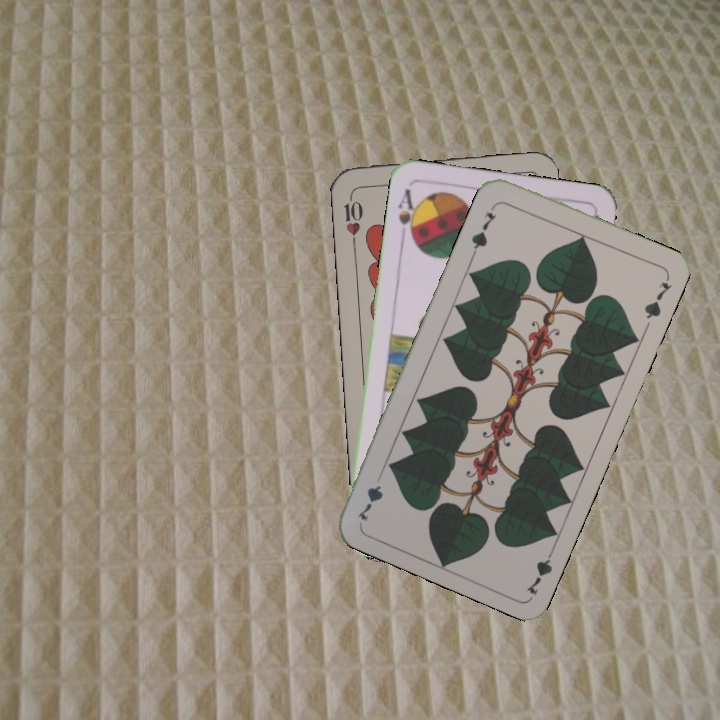G7: (522, 541, 559, 598), (467, 208, 499, 256)
H10: (339, 189, 366, 248)
SA: (394, 185, 421, 244)
